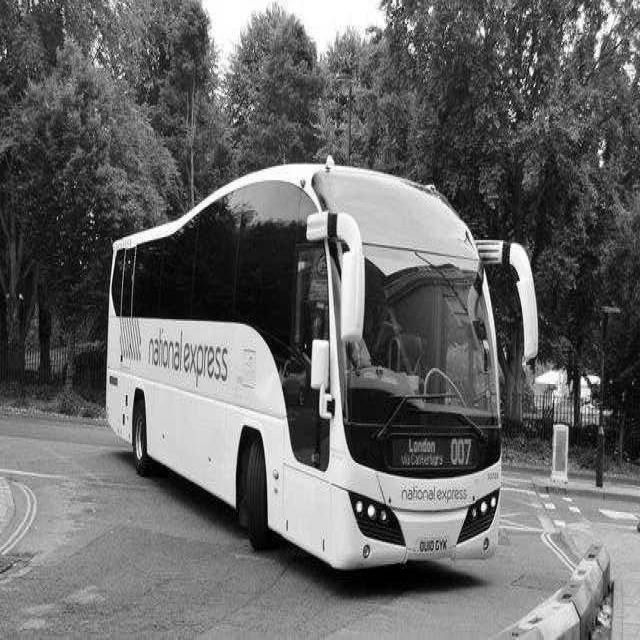Bus: (108, 160, 538, 569)
